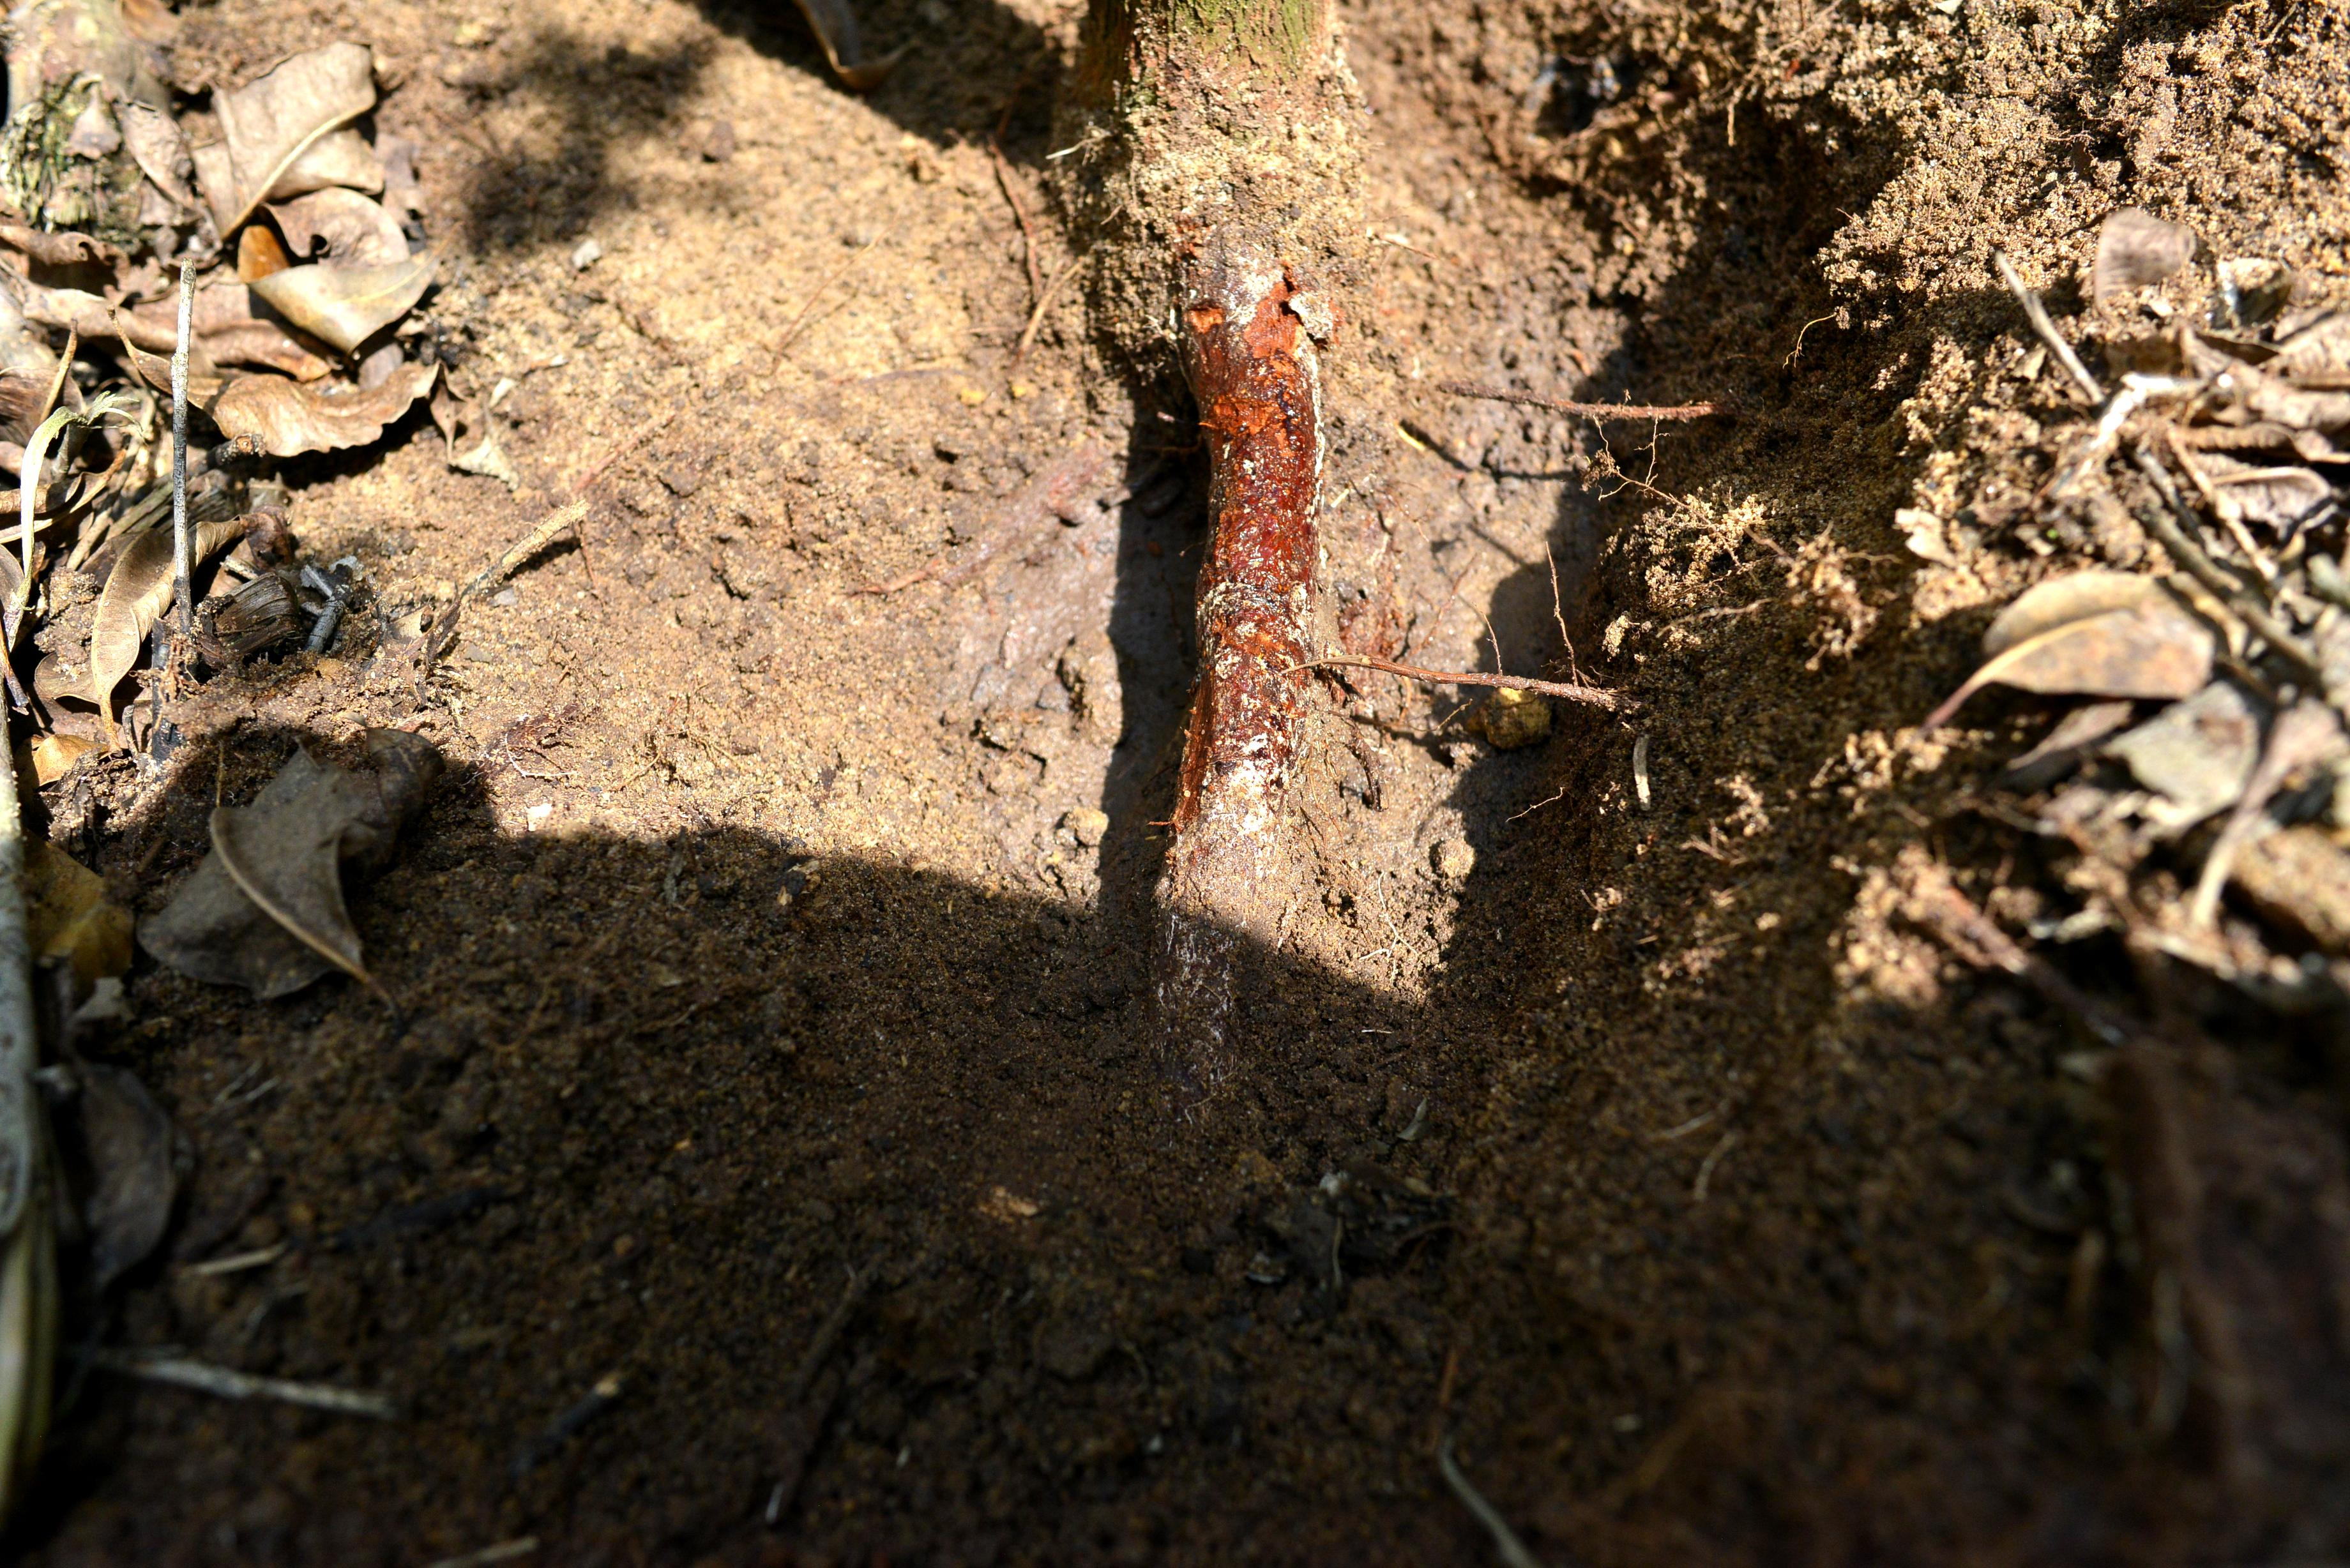Ganoderma - Mycelium: (1157, 761, 1277, 1162), (1192, 574, 1307, 756), (1291, 341, 1339, 481), (1207, 247, 1293, 301), (1284, 282, 1349, 352)
Red Root Rot - Secretion: (1195, 320, 1323, 742)
